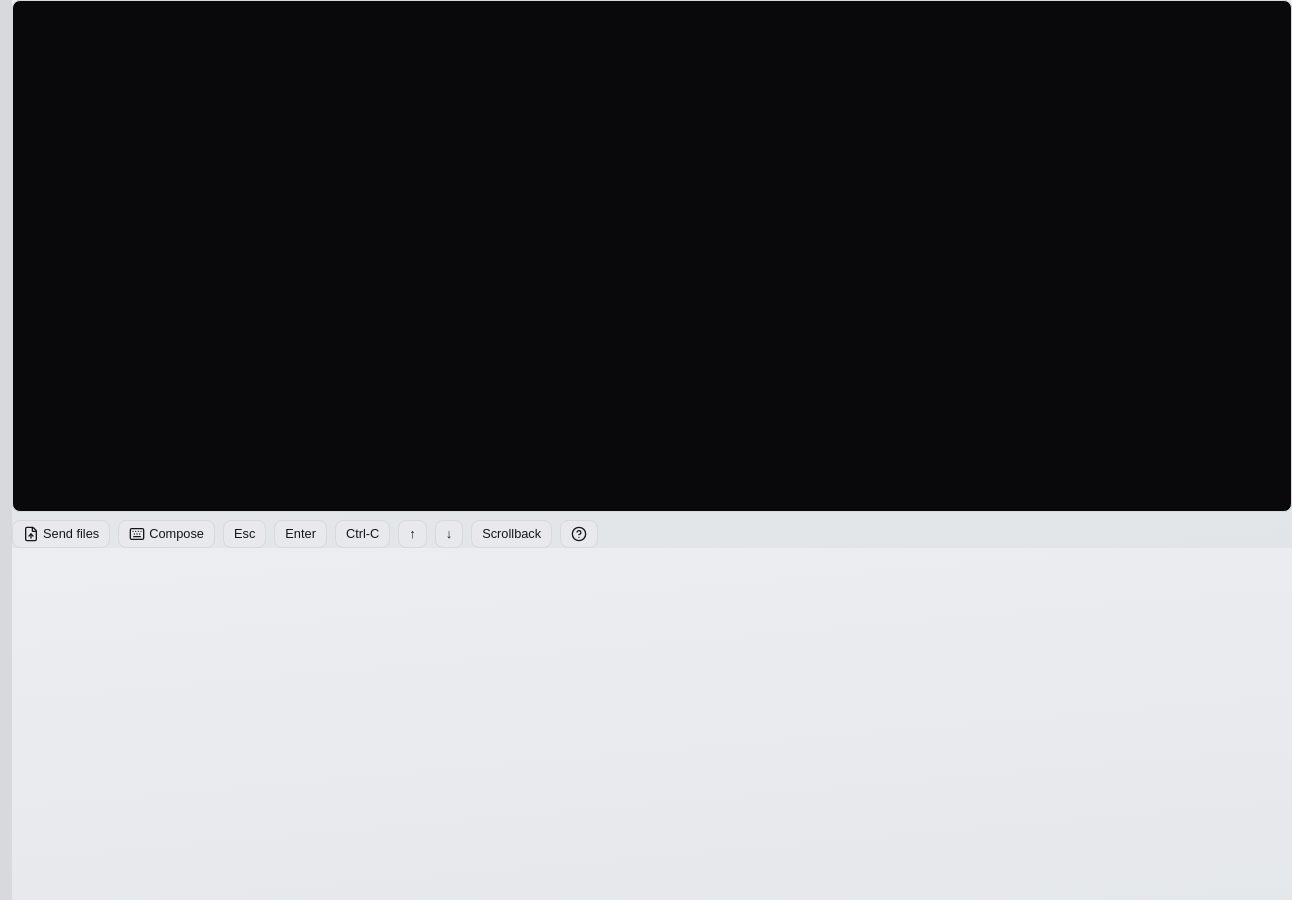
Test case: TuiScreen › scrollback › scrollback case 2a: shows the requested-state status while viewing scrollback
Step 1. Click the button "Scrollback" → (512,534), box x1=471 y1=520 x2=552 y2=548
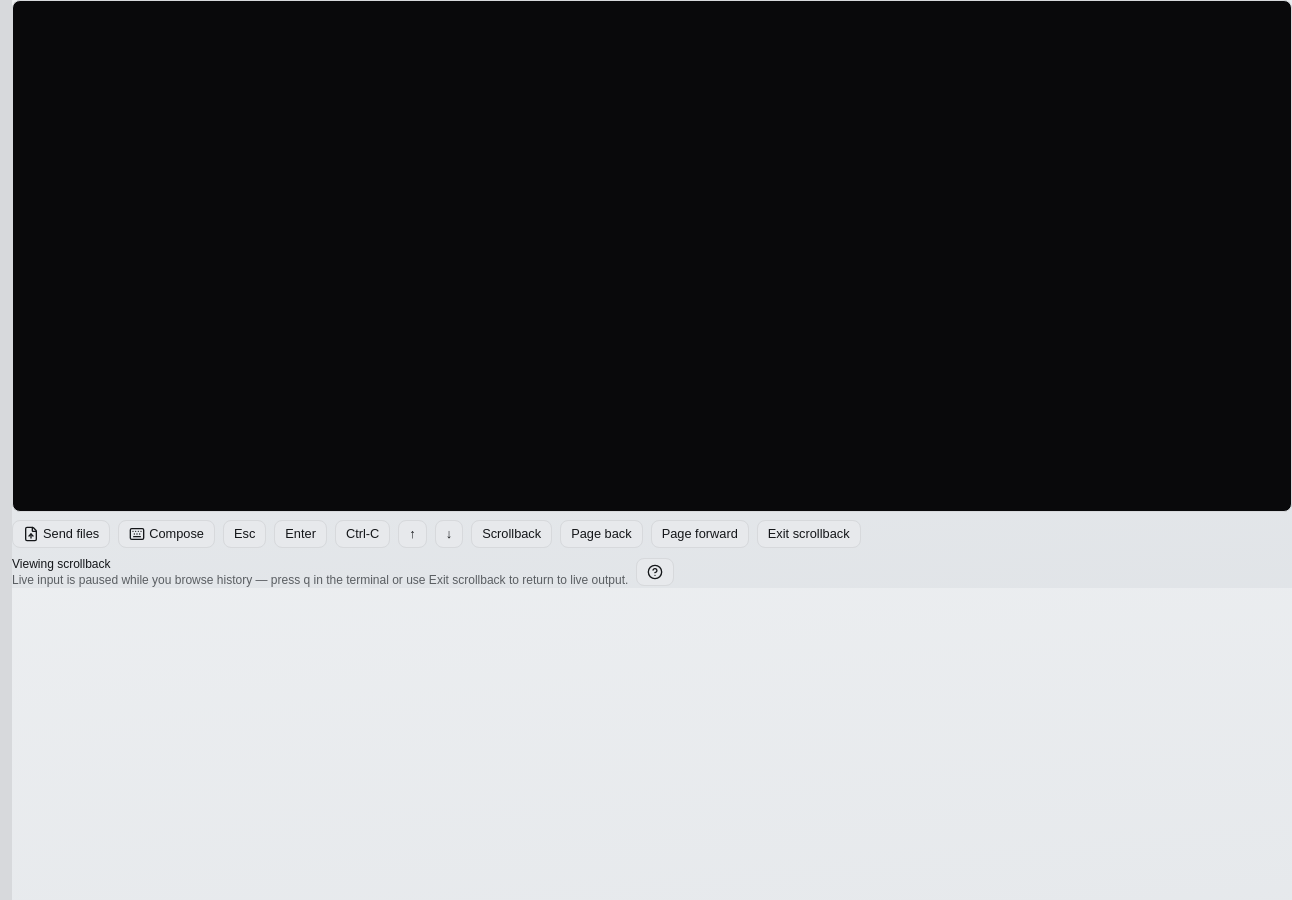
Expected: the text "Viewing scrollback" is shown, x1=12 y1=557 x2=110 y2=571
